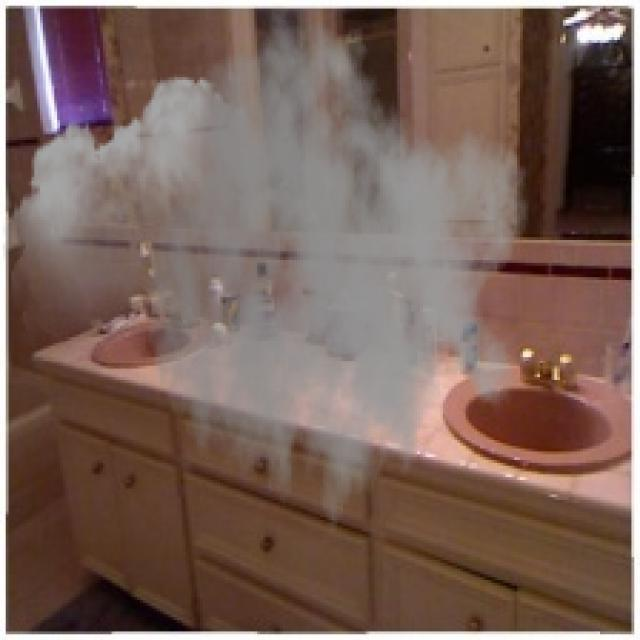Smoke: (2, 5, 532, 558)
